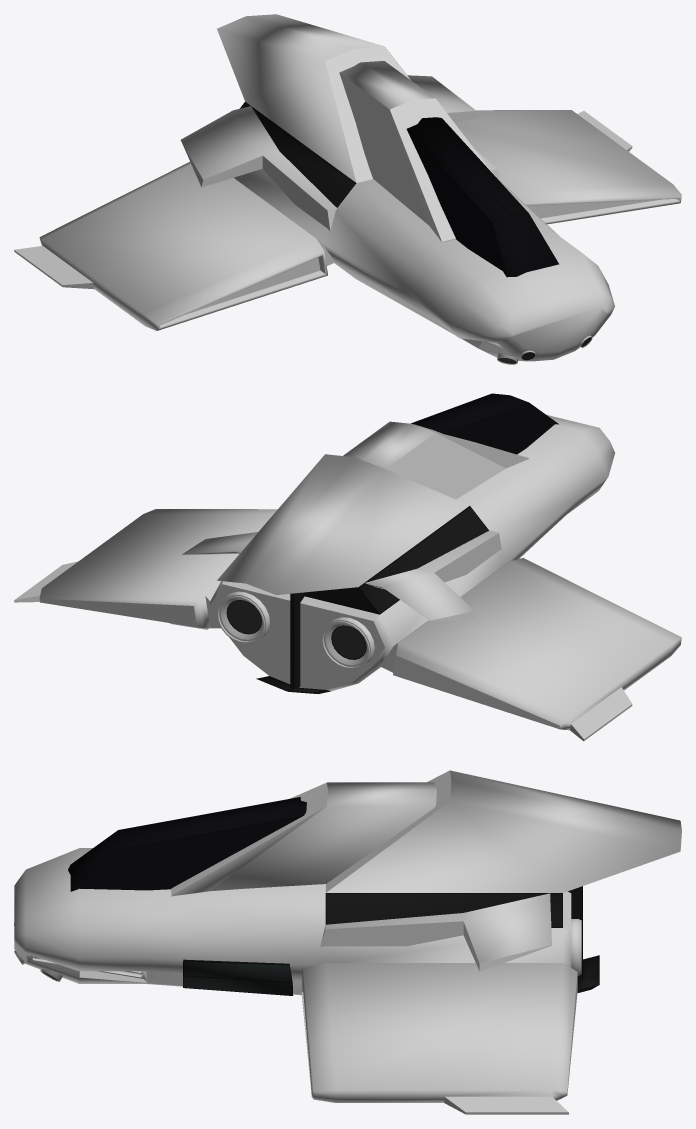
The model's file is DropShipVer4.obj.
The picture shows the model from 3 angles, top to bottom: view 1: azimuth 30°, elevation 25°; view 2: azimuth 150°, elevation 25°; view 3: azimuth 270°, elevation 25°; orthographic projection. The views are drawn at different scales.
Visible parts, largest first — view 1: DropShip_ShipDoor; view 2: DropShip_ShipDoor; view 3: DropShip_ShipDoor.
Part boxes in pixels (x1,y1,x2,y2): DropShip_ShipDoor: (14,14,681,364); DropShip_ShipDoor: (14,393,681,741); DropShip_ShipDoor: (14,770,681,1114).
Bounding box in the file's own units: 11.76 × 3.81 × 11.21.
